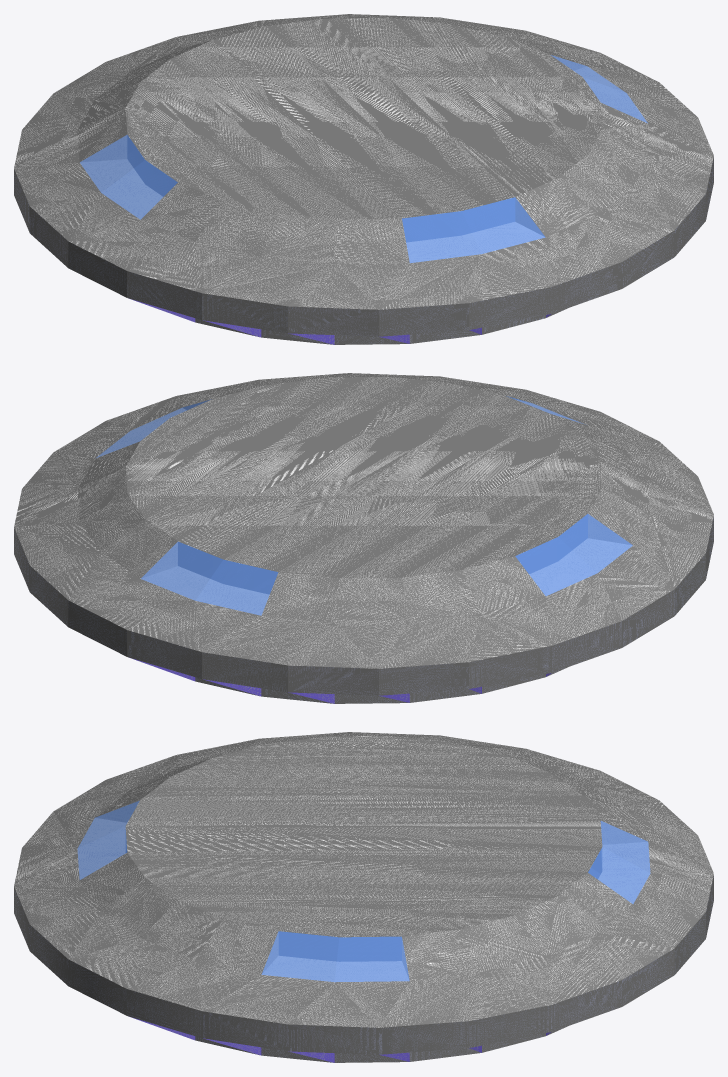
File: ufo.dae
3 views of the same model, one above another, from view 1: azimuth 30°, elevation 25°; view 2: azimuth 150°, elevation 25°; view 3: azimuth 270°, elevation 25° (orthographic).
Visible parts, largest first — view 1: SketchUp (×6); view 2: SketchUp (×6); view 3: SketchUp (×6).
Boxes of the visible parts, box(x1,y1,x2,y2) form: SketchUp (×6): box(14, 14, 713, 344); SketchUp (×6): box(14, 373, 713, 703); SketchUp (×6): box(14, 732, 713, 1062).
Size of the model in its own units: 8500 by 8500 by 1411.
